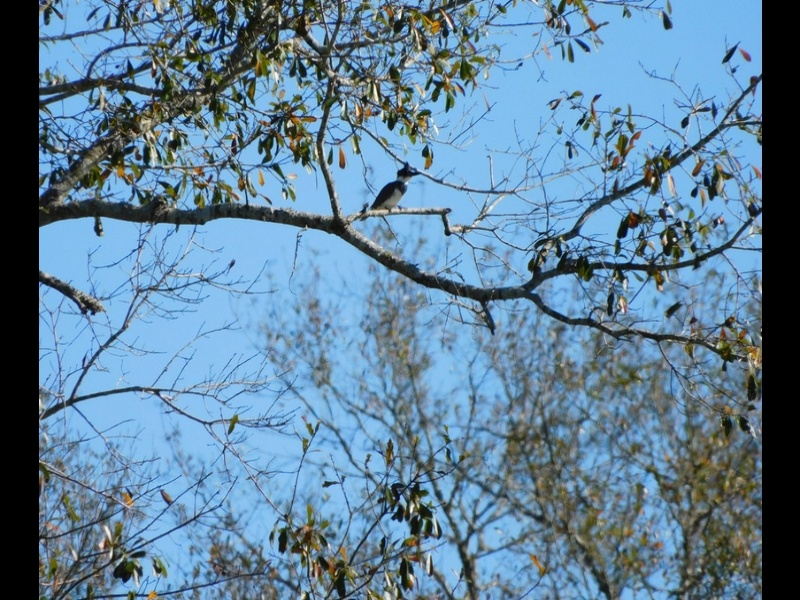kingfisher: (369, 165, 421, 212)
